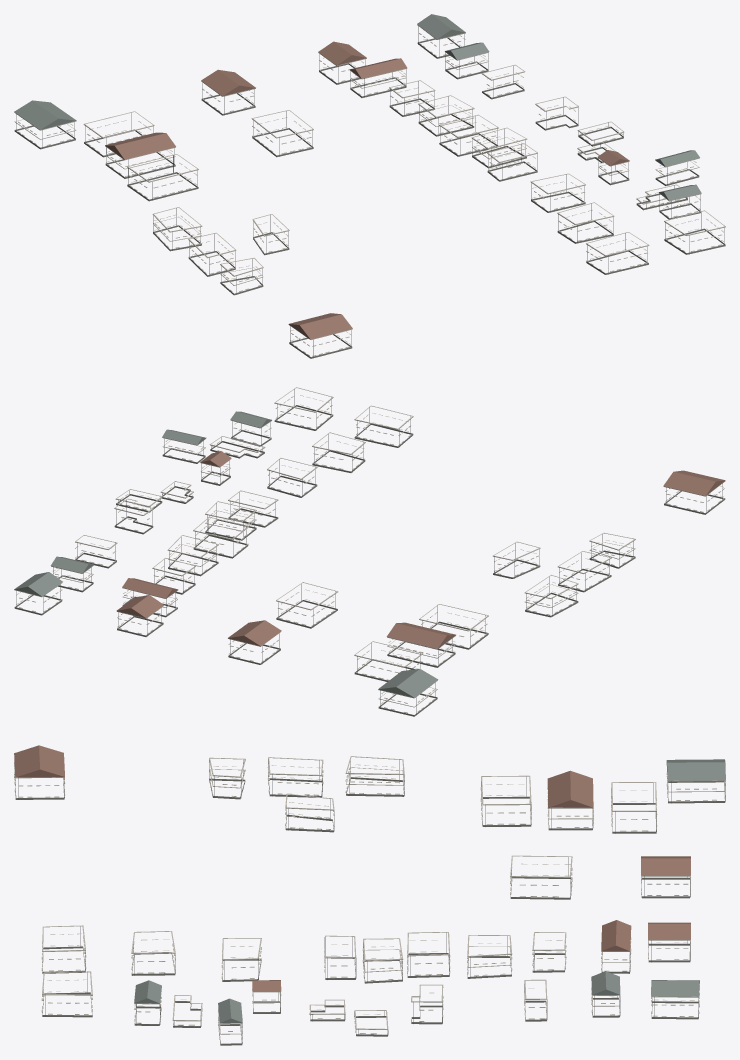
File: district_-2_-1.glb
3 renders of one model, top to bottom at view 1: azimuth 30°, elevation 25°; view 2: azimuth 150°, elevation 25°; view 3: azimuth 270°, elevation 25°, orthographic. The views are drawn at different scales.
Visible parts, largest first — view 1: MasonryTrim, RoofMetal, MetalDetails; view 2: MasonryTrim, RoofMetal, MetalDetails; view 3: MasonryTrim, RoofMetal, MetalDetails.
Boxes of the visible parts, x1,y1,x2,y2 form: MasonryTrim: (14,25,725,358); RoofMetal: (14,14,701,339); MetalDetails: (16,25,724,357); MasonryTrim: (14,387,725,716); RoofMetal: (14,411,725,697); MetalDetails: (16,389,722,715); MasonryTrim: (14,756,725,1045); RoofMetal: (14,745,725,1022); MetalDetails: (14,759,725,1043).
Bounding box in the file's own units: 192 × 10.1 × 214.
